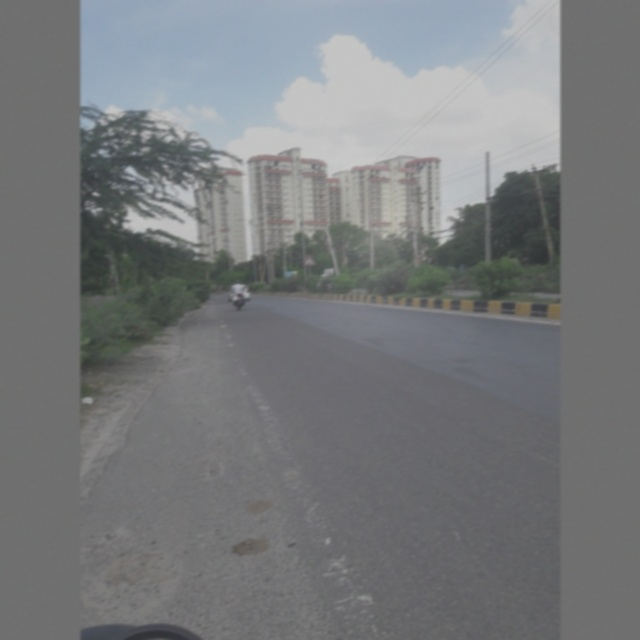Gap_in_Median: (301, 252, 316, 267)
